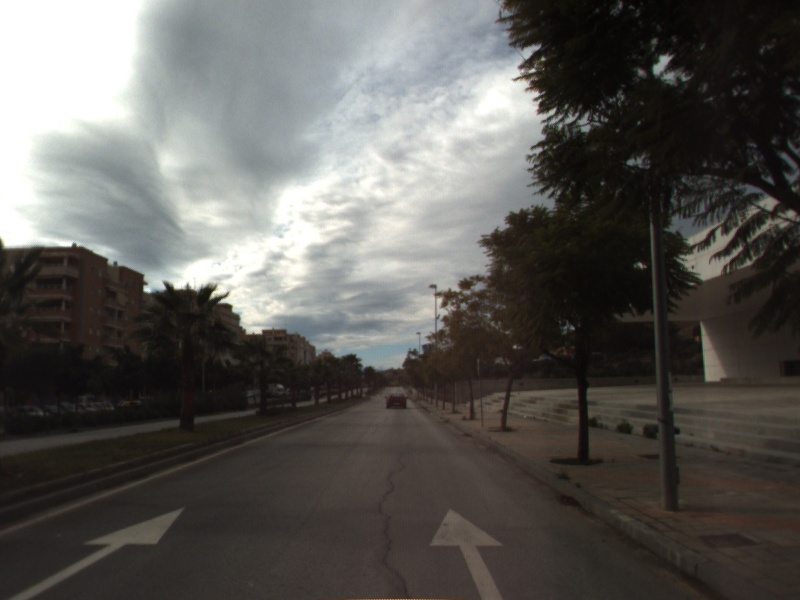STRAIGHT: (3, 504, 189, 600), (427, 505, 506, 600)
